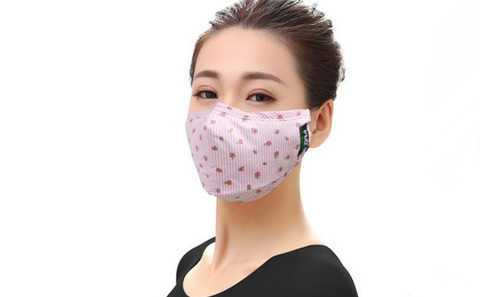face_mask: (186, 28, 307, 203)
